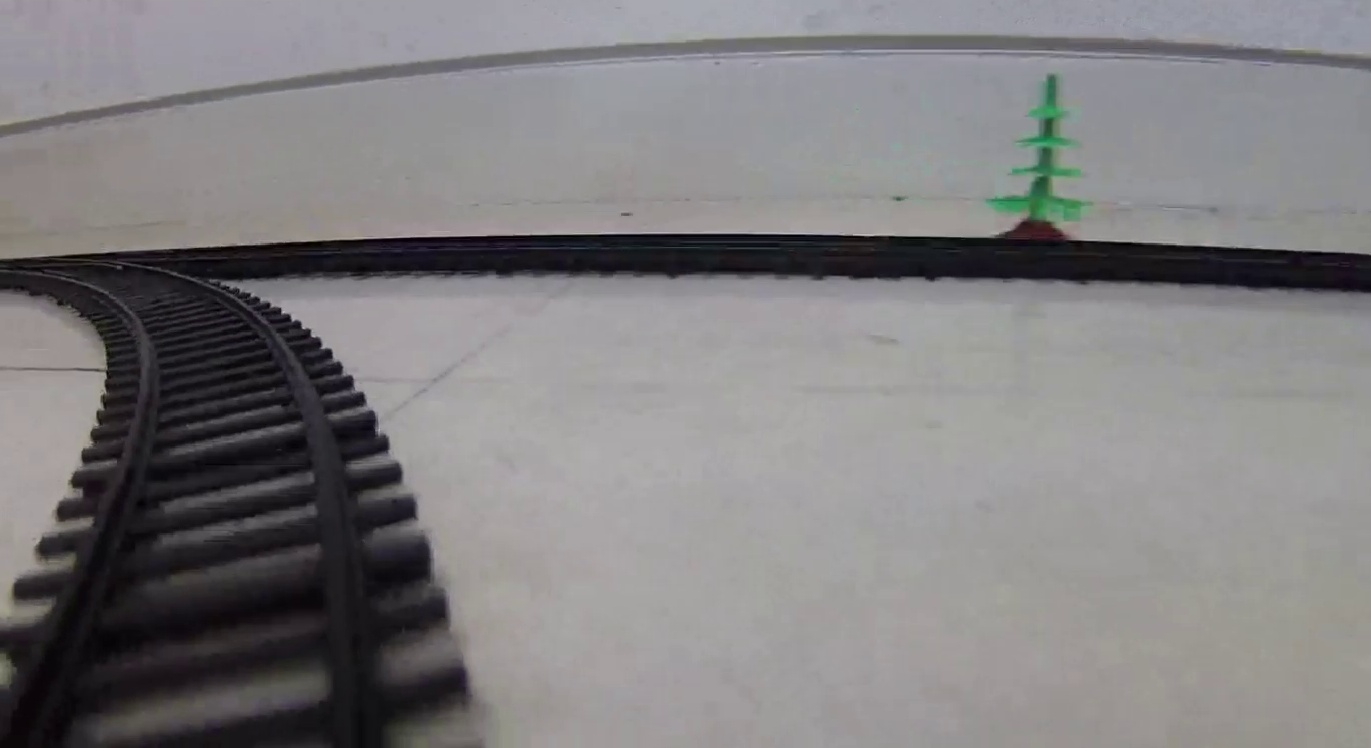tree: (989, 74, 1095, 242)
